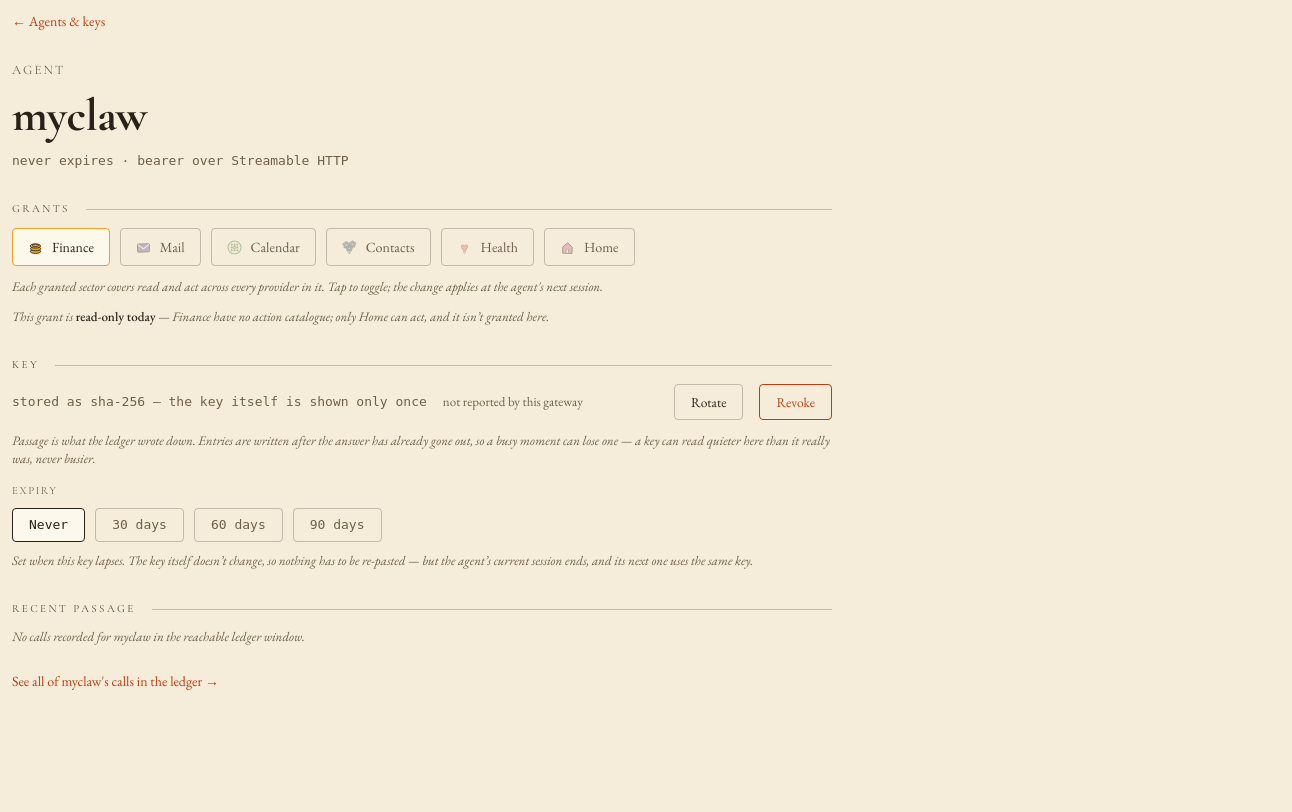
Scenario: AgentDetailPage › goes inactive while the deadline is moving, and says what it is doing
Click the button "30 days". click: (140, 525)
box: [95,508,184,542]
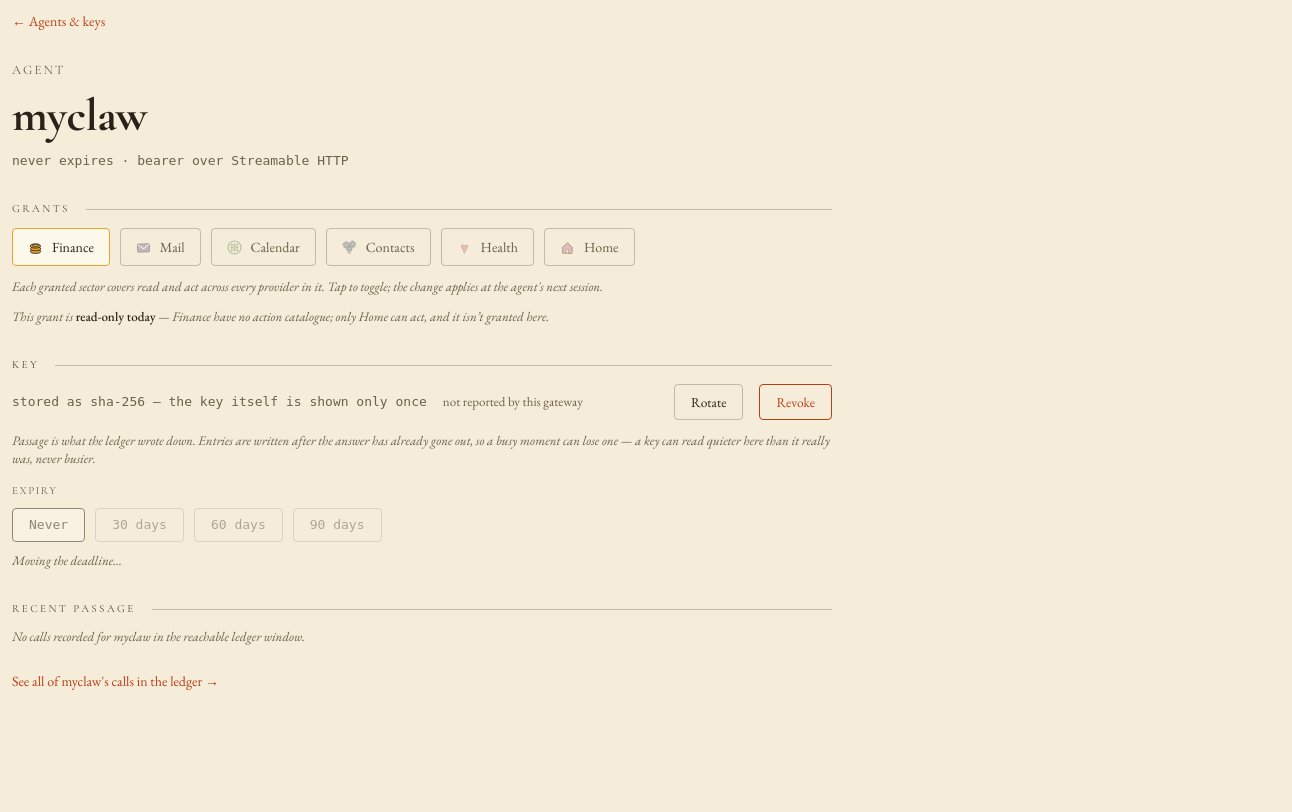
Result: the text "Moving the deadline…" is shown at [12,552,122,569]
Result: the button "30 days" is disabled at [95,508,184,542]
Result: the button "Never" is disabled at [12,508,85,542]
Click the button "60 days". click: (238, 525)
box: [194,508,283,542]
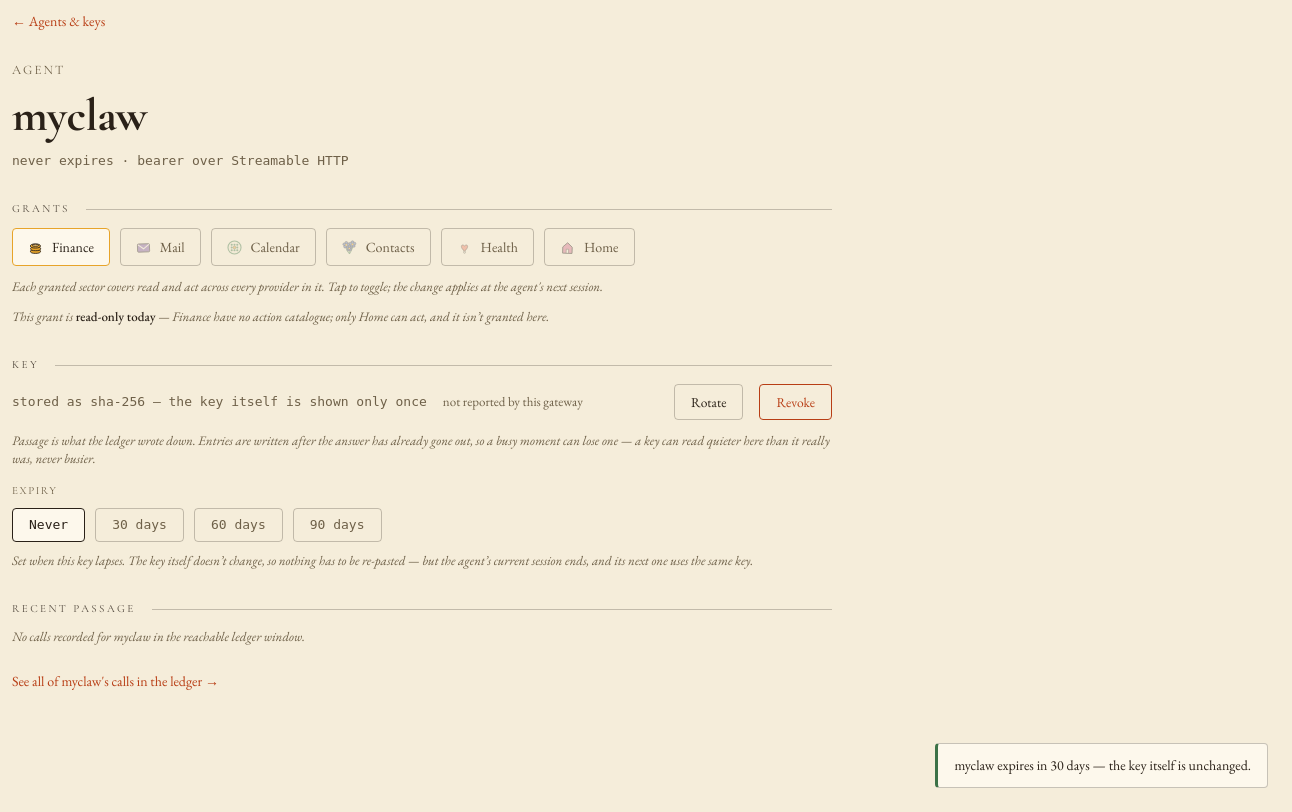
Result: the text "myclaw expires in 30 days — the key itself is unchanged." is shown at [935,743,1268,788]
